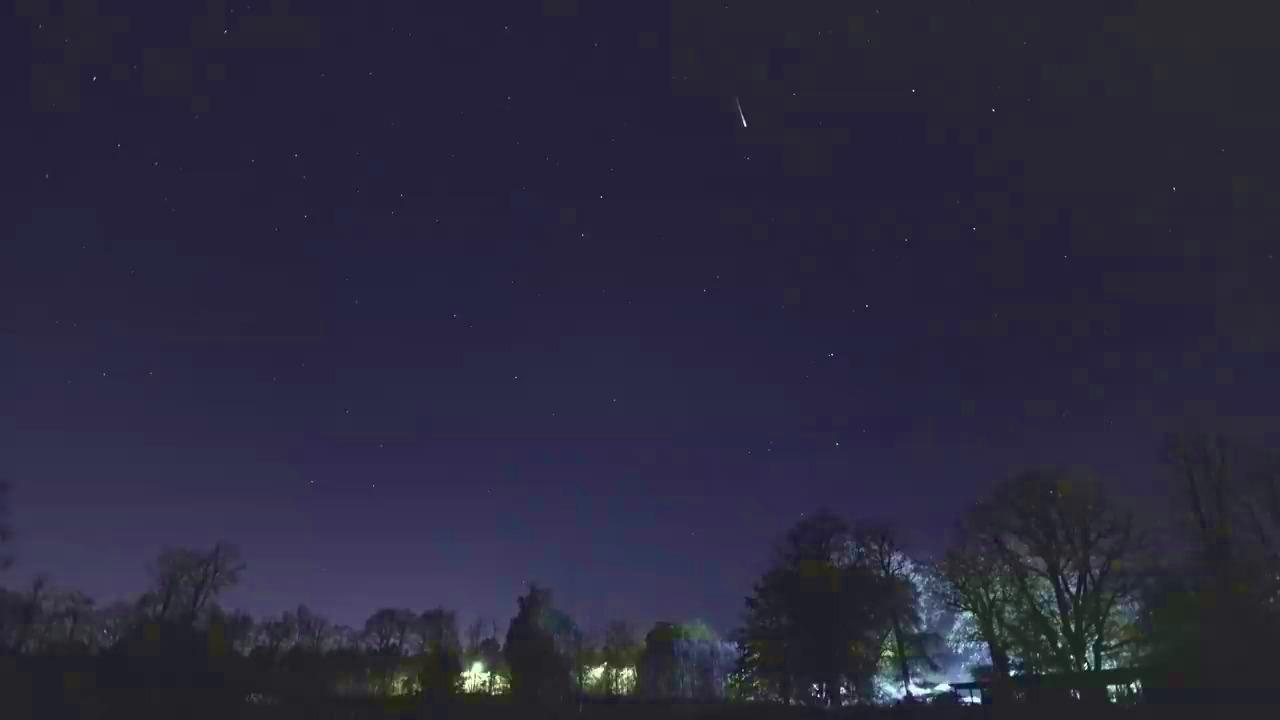meteorite: (678, 93, 797, 131)
